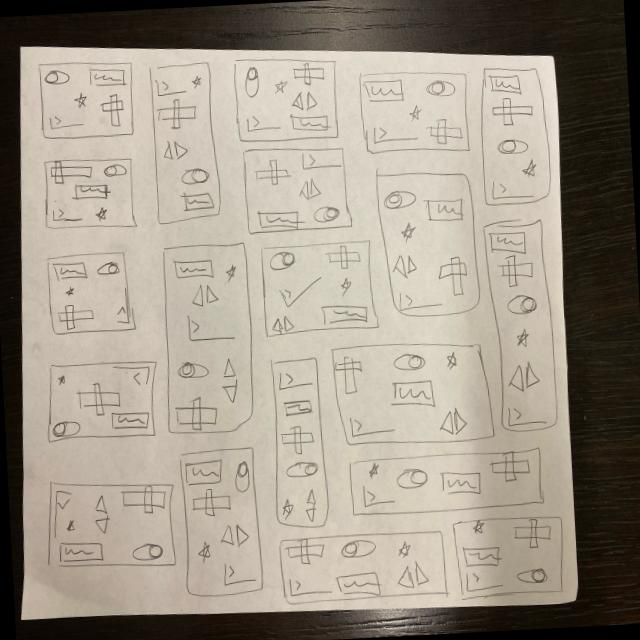Button: (192, 535, 214, 568), (512, 323, 533, 352), (394, 536, 416, 562), (270, 70, 288, 101), (334, 273, 356, 298), (398, 219, 418, 244), (278, 498, 300, 520), (446, 346, 462, 375), (224, 260, 242, 281), (405, 104, 423, 125), (518, 160, 539, 178), (60, 514, 78, 534), (72, 89, 90, 108), (92, 204, 109, 223), (190, 70, 203, 92), (470, 518, 484, 538), (366, 461, 382, 478), (53, 371, 68, 386), (62, 283, 76, 297)
Command: (182, 309, 240, 346), (274, 272, 324, 310), (284, 569, 336, 603), (346, 410, 394, 440), (369, 119, 420, 147), (218, 557, 260, 589), (462, 566, 502, 596), (506, 402, 548, 430), (300, 148, 345, 174), (110, 362, 153, 387), (46, 110, 86, 136), (274, 368, 314, 393), (488, 180, 533, 202), (398, 288, 442, 310), (246, 112, 286, 136), (360, 486, 395, 512), (152, 73, 186, 97), (47, 205, 87, 225), (112, 282, 130, 324)
IncDec: (506, 359, 544, 398), (89, 490, 115, 536), (396, 560, 433, 592), (438, 404, 472, 438), (187, 280, 224, 308), (222, 354, 241, 408), (217, 522, 250, 552), (158, 136, 191, 166), (389, 252, 423, 278), (302, 483, 320, 524), (297, 177, 324, 204), (289, 88, 318, 112), (270, 314, 296, 333)
Slider: (172, 396, 225, 432), (118, 484, 168, 516), (76, 380, 120, 416), (334, 351, 365, 402), (440, 248, 470, 300), (154, 98, 202, 130), (488, 97, 536, 129), (488, 454, 532, 488), (190, 488, 233, 522), (54, 297, 94, 333), (282, 540, 328, 568), (254, 160, 294, 192), (496, 256, 534, 288), (96, 92, 126, 132), (512, 520, 552, 548), (48, 160, 92, 184), (323, 244, 362, 270), (278, 427, 316, 453), (428, 117, 463, 145), (290, 62, 324, 86)
Text: (422, 192, 469, 228), (334, 568, 384, 600), (316, 298, 369, 328), (360, 74, 411, 104), (390, 378, 437, 408), (185, 456, 228, 486), (168, 255, 217, 281), (257, 203, 302, 231), (440, 468, 485, 496), (57, 538, 104, 564), (280, 393, 318, 425), (85, 64, 128, 90), (488, 230, 531, 256), (107, 408, 151, 433), (50, 257, 91, 282), (484, 71, 524, 96), (462, 542, 502, 566), (288, 113, 330, 135), (182, 188, 216, 215), (70, 180, 111, 202)
Toggle: (172, 355, 218, 385), (340, 534, 382, 562), (514, 559, 550, 590), (283, 455, 322, 483), (242, 64, 268, 104), (381, 185, 418, 213), (130, 536, 166, 564), (394, 464, 431, 491), (389, 351, 430, 375), (310, 198, 346, 225), (504, 292, 541, 318), (177, 162, 211, 188), (423, 76, 458, 100), (492, 135, 530, 157), (93, 255, 126, 280), (265, 248, 299, 272), (42, 64, 70, 92), (232, 458, 251, 496), (49, 417, 82, 438), (104, 161, 128, 178)
